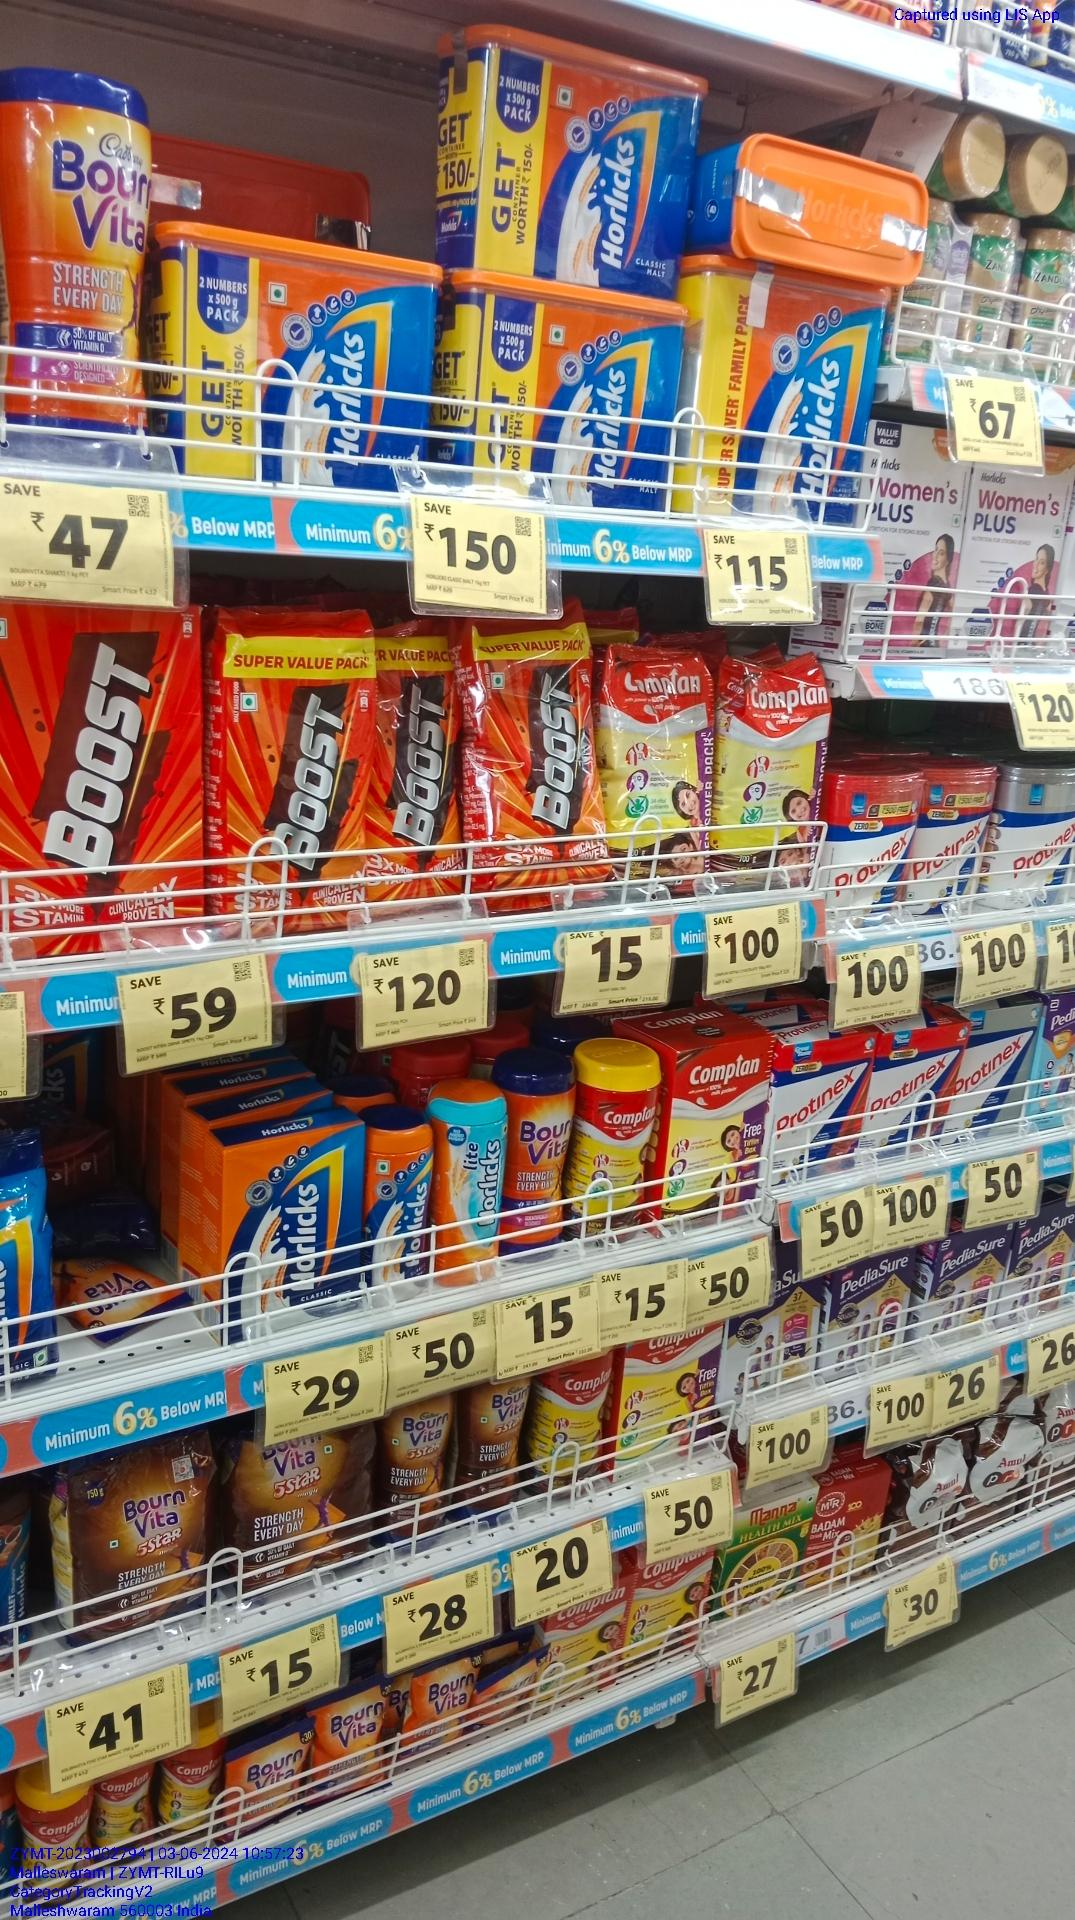BOURN_VITA_75_G_POUCH: (220, 1714, 310, 1834), (314, 1675, 394, 1796), (400, 1646, 477, 1754)
BOURN_VITA_FIVE_STAR_MAGIC_500_G_JAR: (381, 1394, 452, 1547), (463, 1369, 530, 1516)
BOURN_VITA_FIVE_STAR_MAGIC_750_G_POUCH: (67, 1431, 218, 1639), (232, 1394, 376, 1588)
COMPLAN_CHOCOLATE_200_GMS_JAR: (13, 1770, 91, 1909), (96, 1771, 156, 1859), (161, 1749, 215, 1840)
HORLICKS_LITE_REGULAR_MALT_500_GM_JAR: (441, 1092, 507, 1282)
HORLICK_CLASSIC_MALT_500_G_JAR: (363, 1104, 434, 1300)
HORLICK_CLASSIC_MALT_500_G_PACK: (222, 1114, 355, 1336)
HORLICK_MALT_1_KG_CONTAINER: (156, 222, 433, 497), (454, 26, 700, 269), (460, 281, 681, 510)
PEDIASURE_CHOCOLATE_500_G_PACK: (1018, 1197, 1075, 1315)
PEDIASURE_VANILLA_500_G_PACK: (728, 1255, 816, 1425), (822, 1250, 909, 1377), (921, 1226, 1009, 1337)
